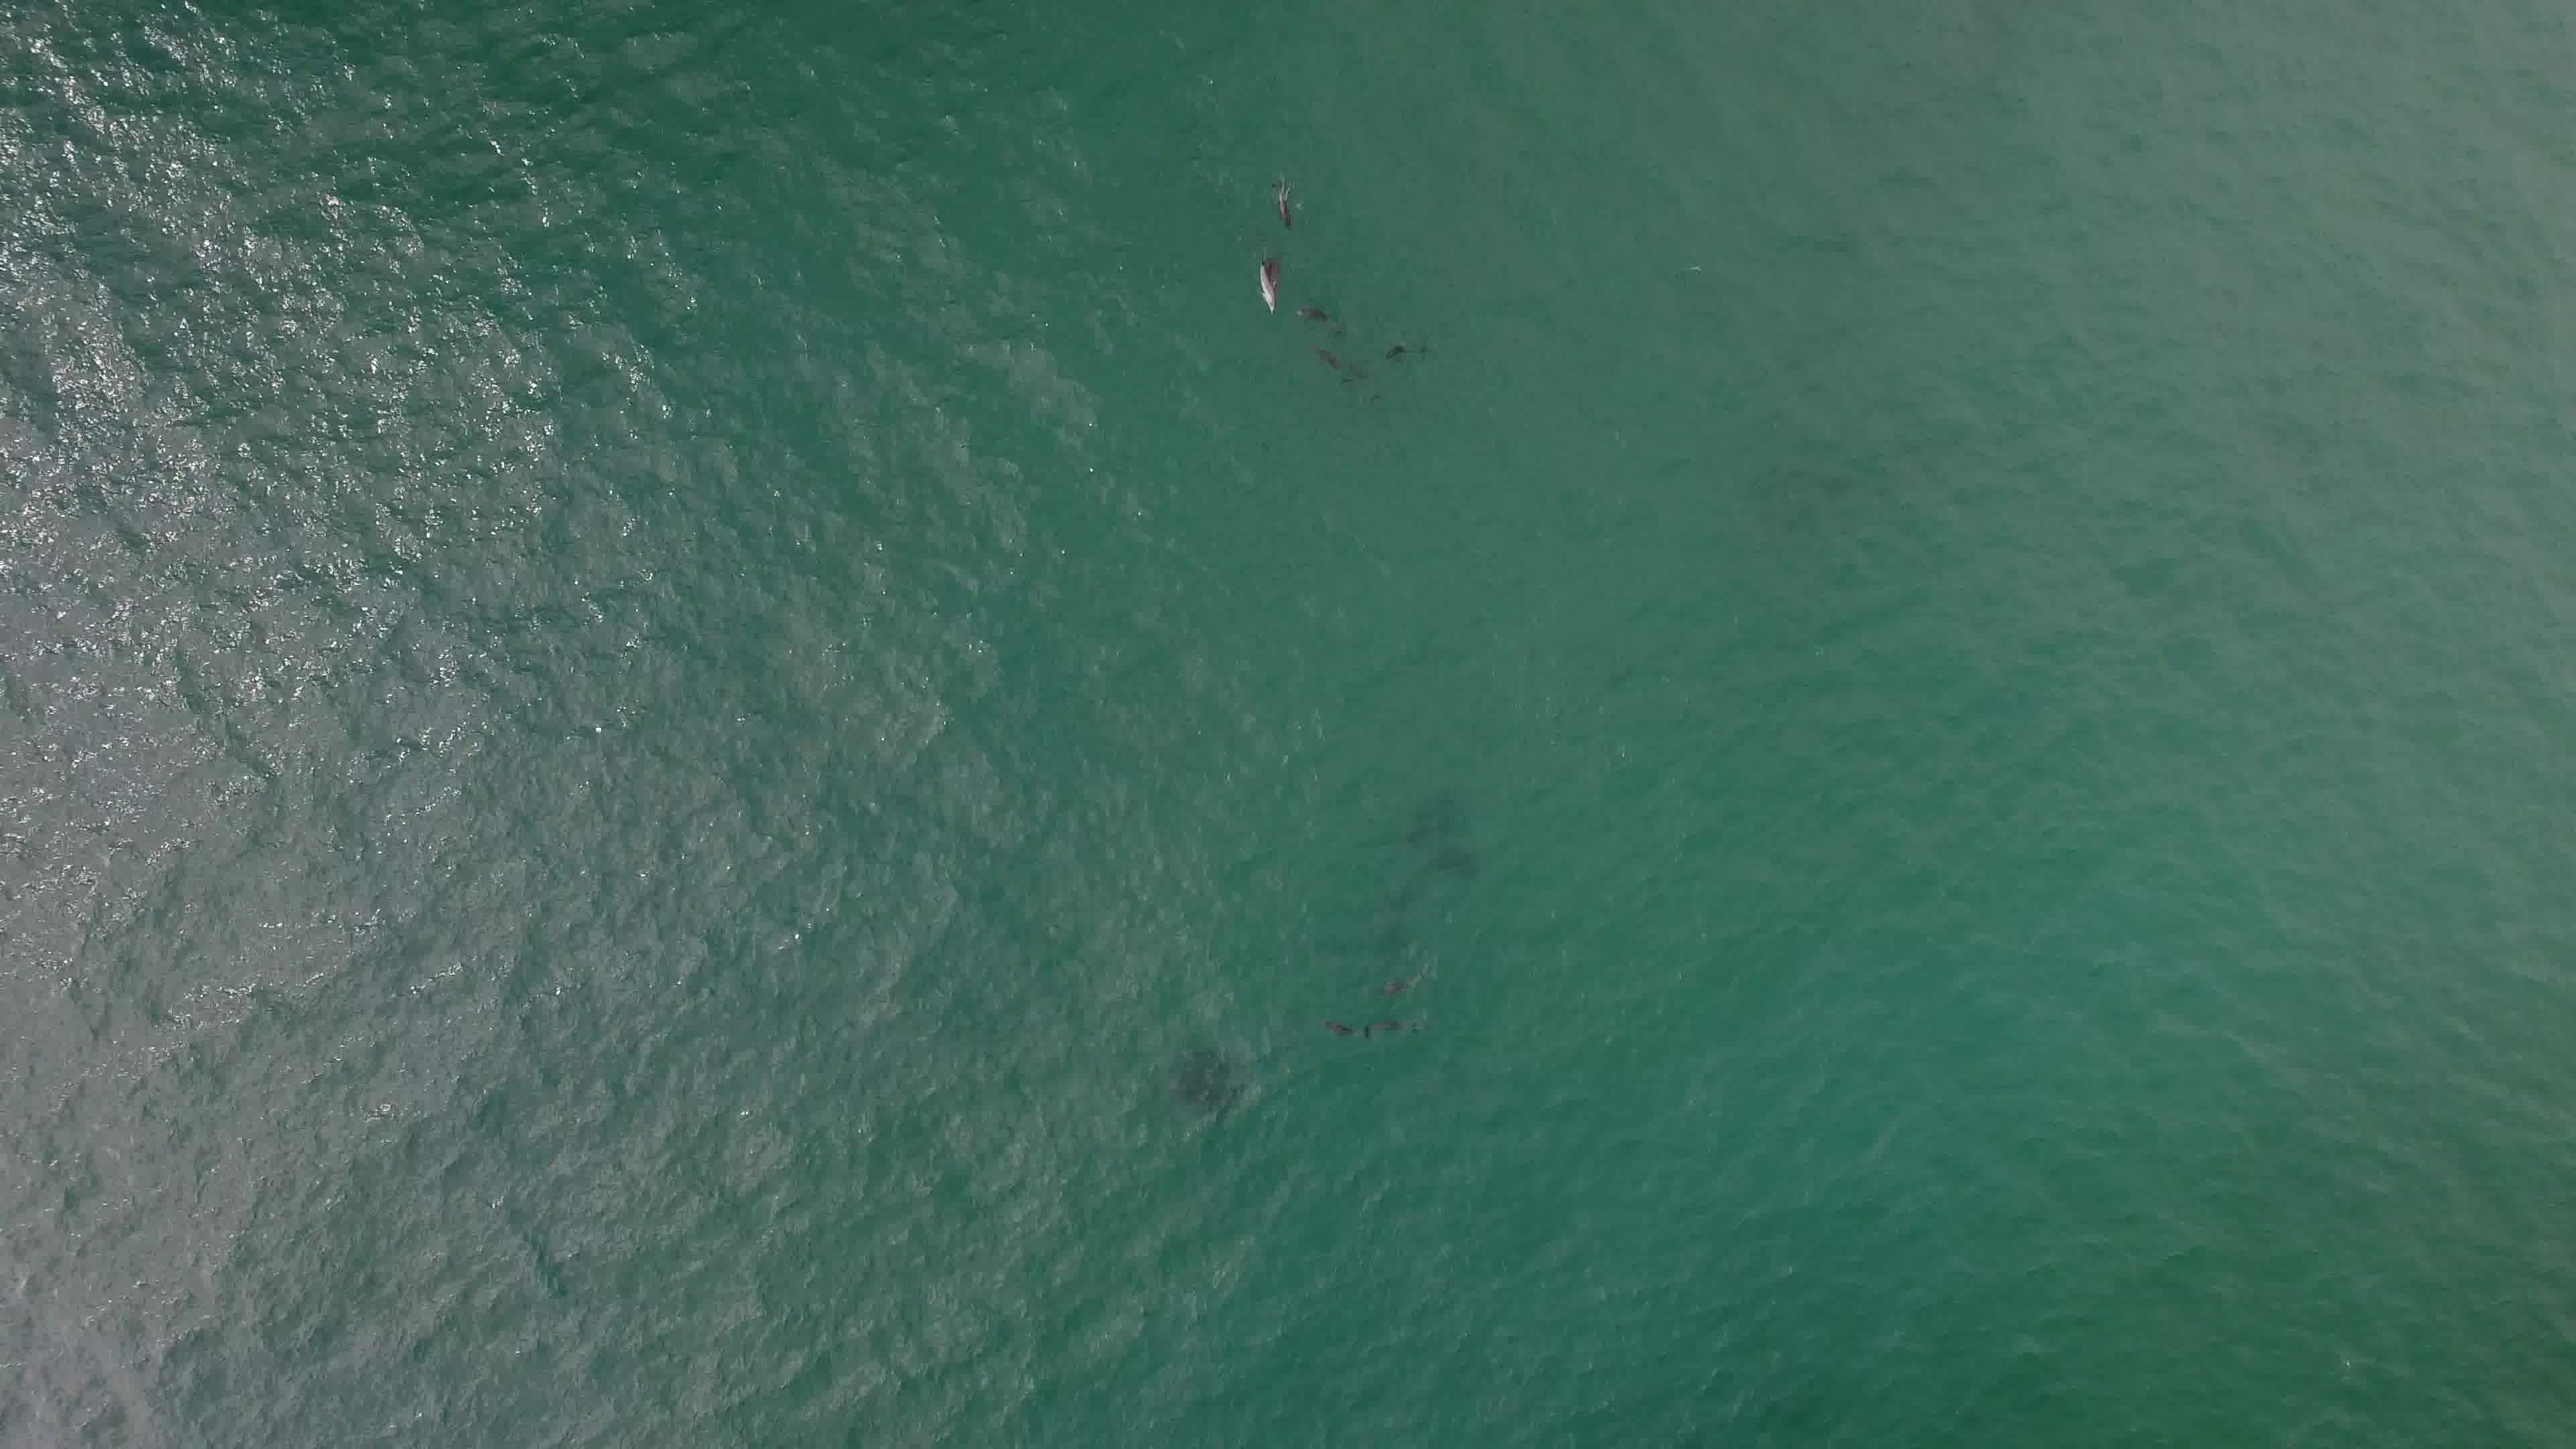dolphin: (1237, 235, 1292, 324), (1254, 168, 1302, 253), (1309, 338, 1366, 395), (1311, 1007, 1380, 1047), (1369, 966, 1440, 1001), (1288, 294, 1346, 333)
